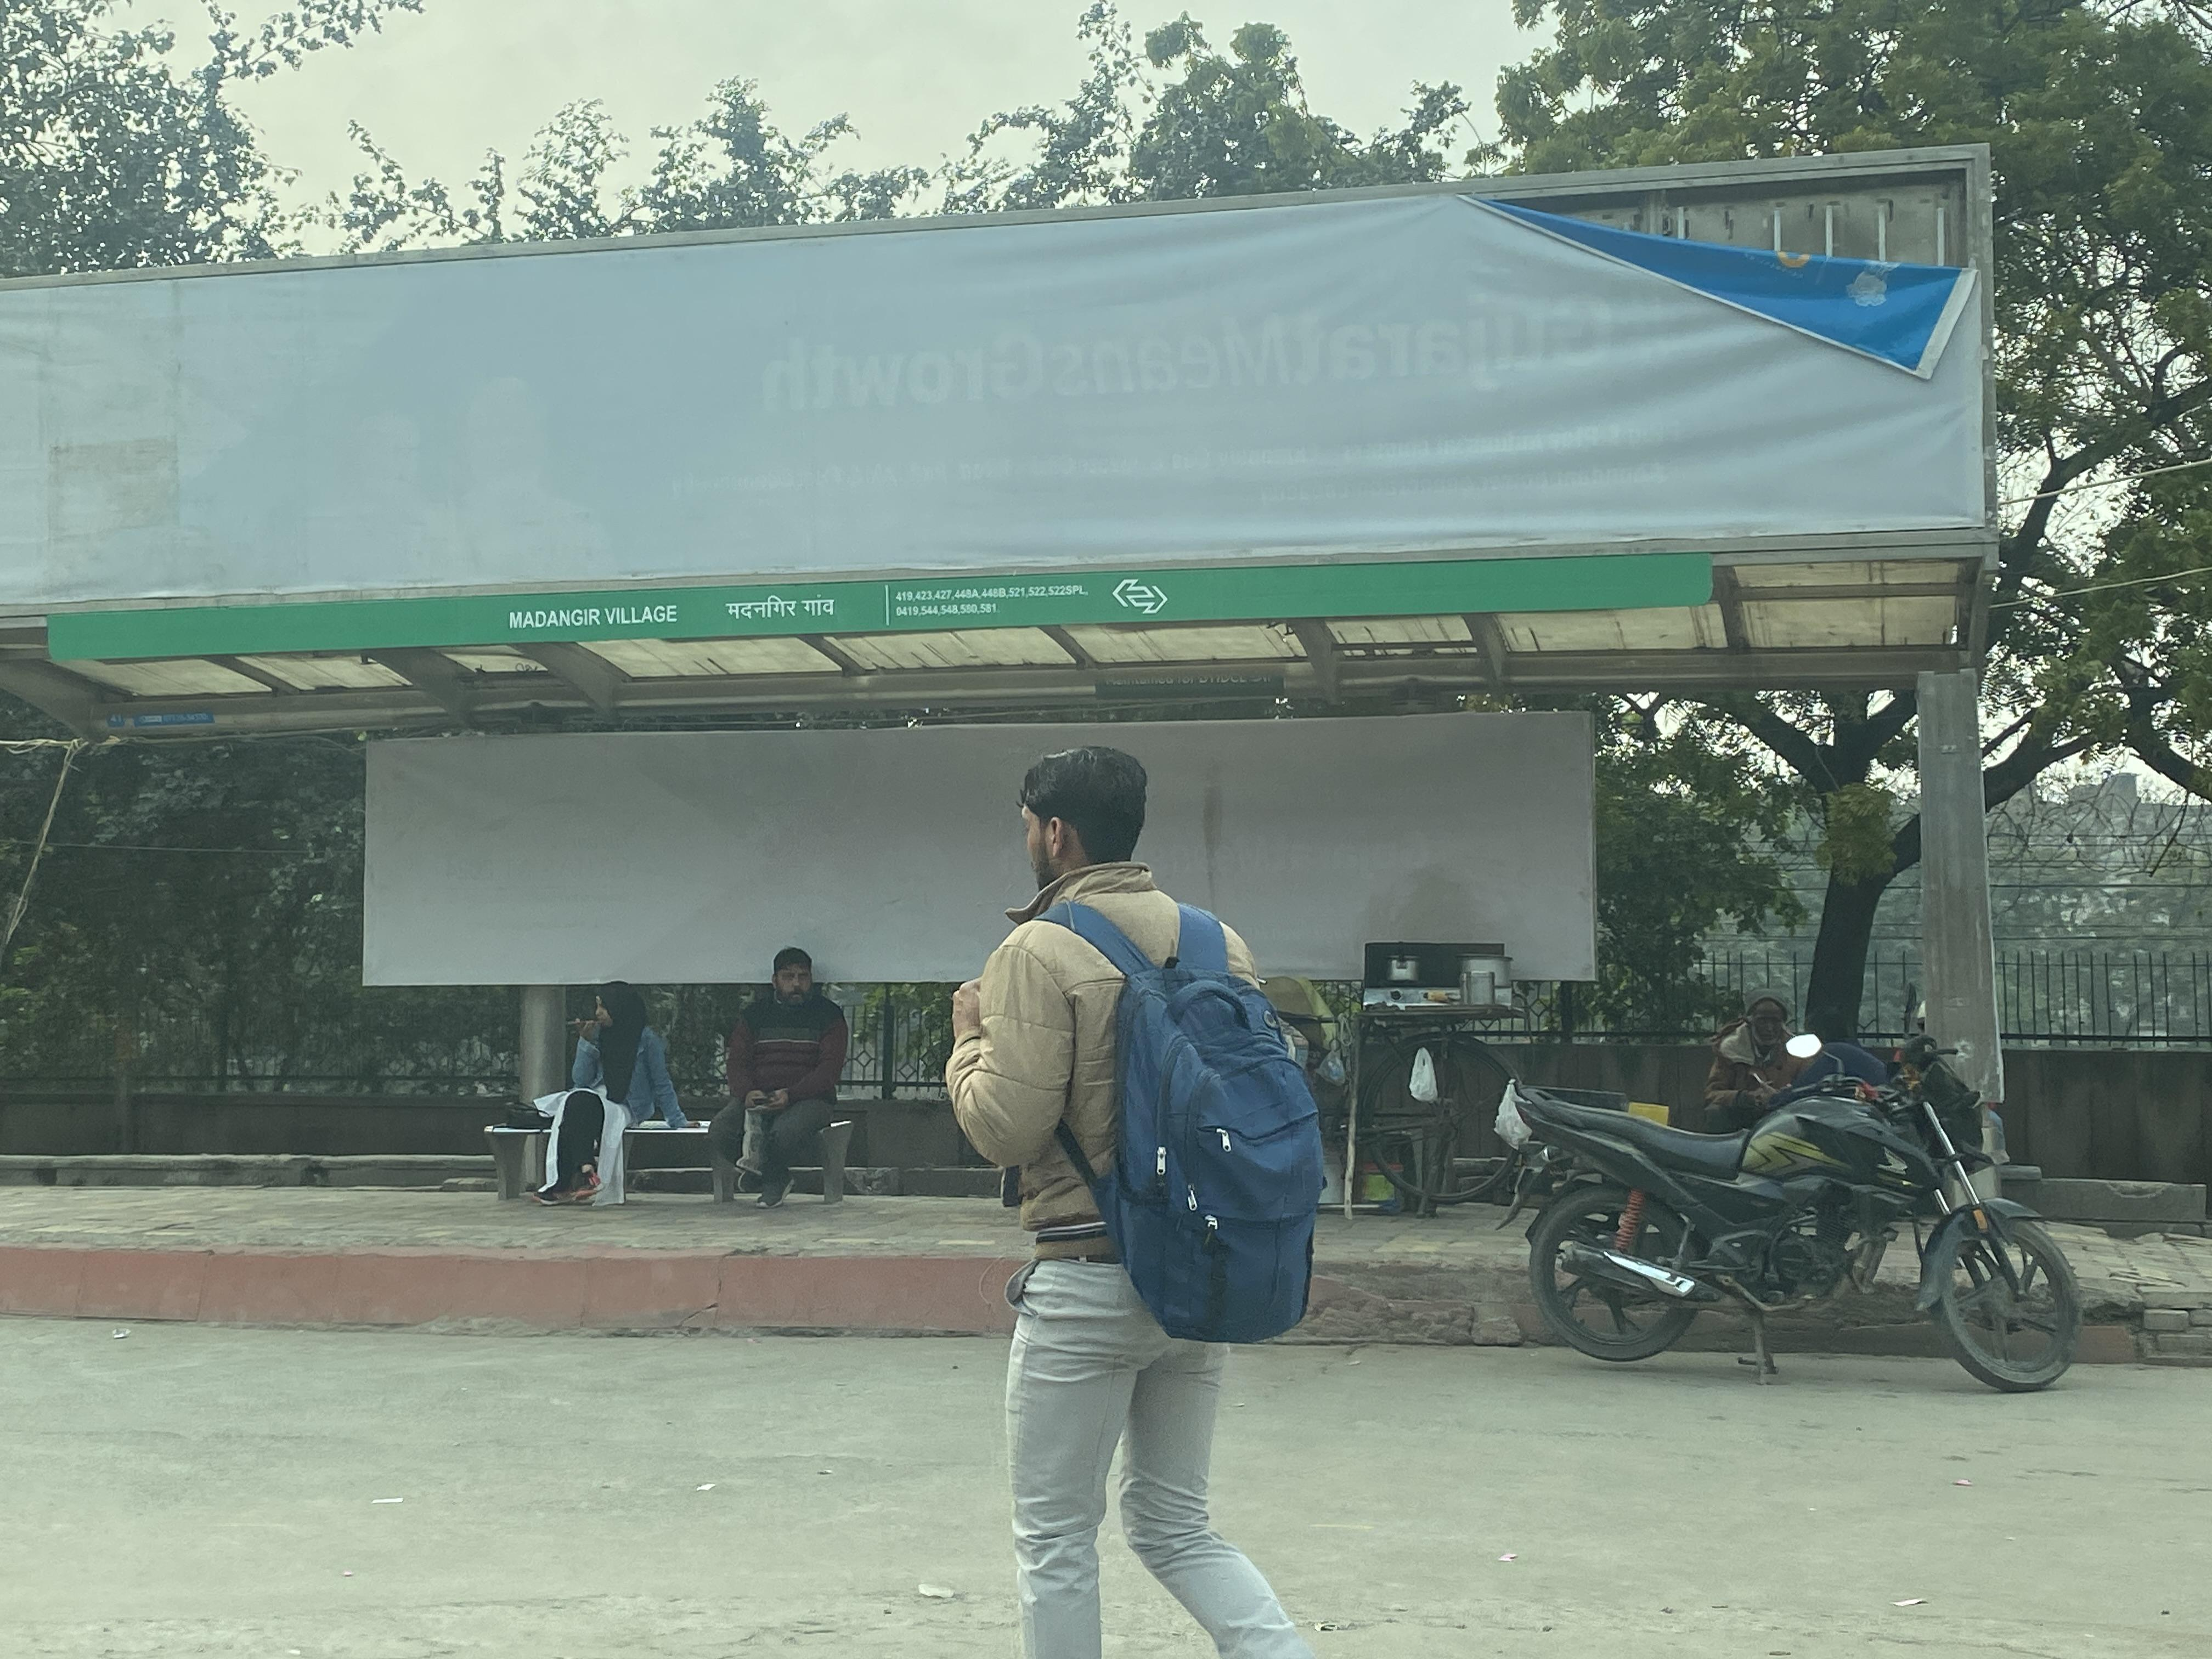Bus-stop-board: (33, 521, 1728, 647)
